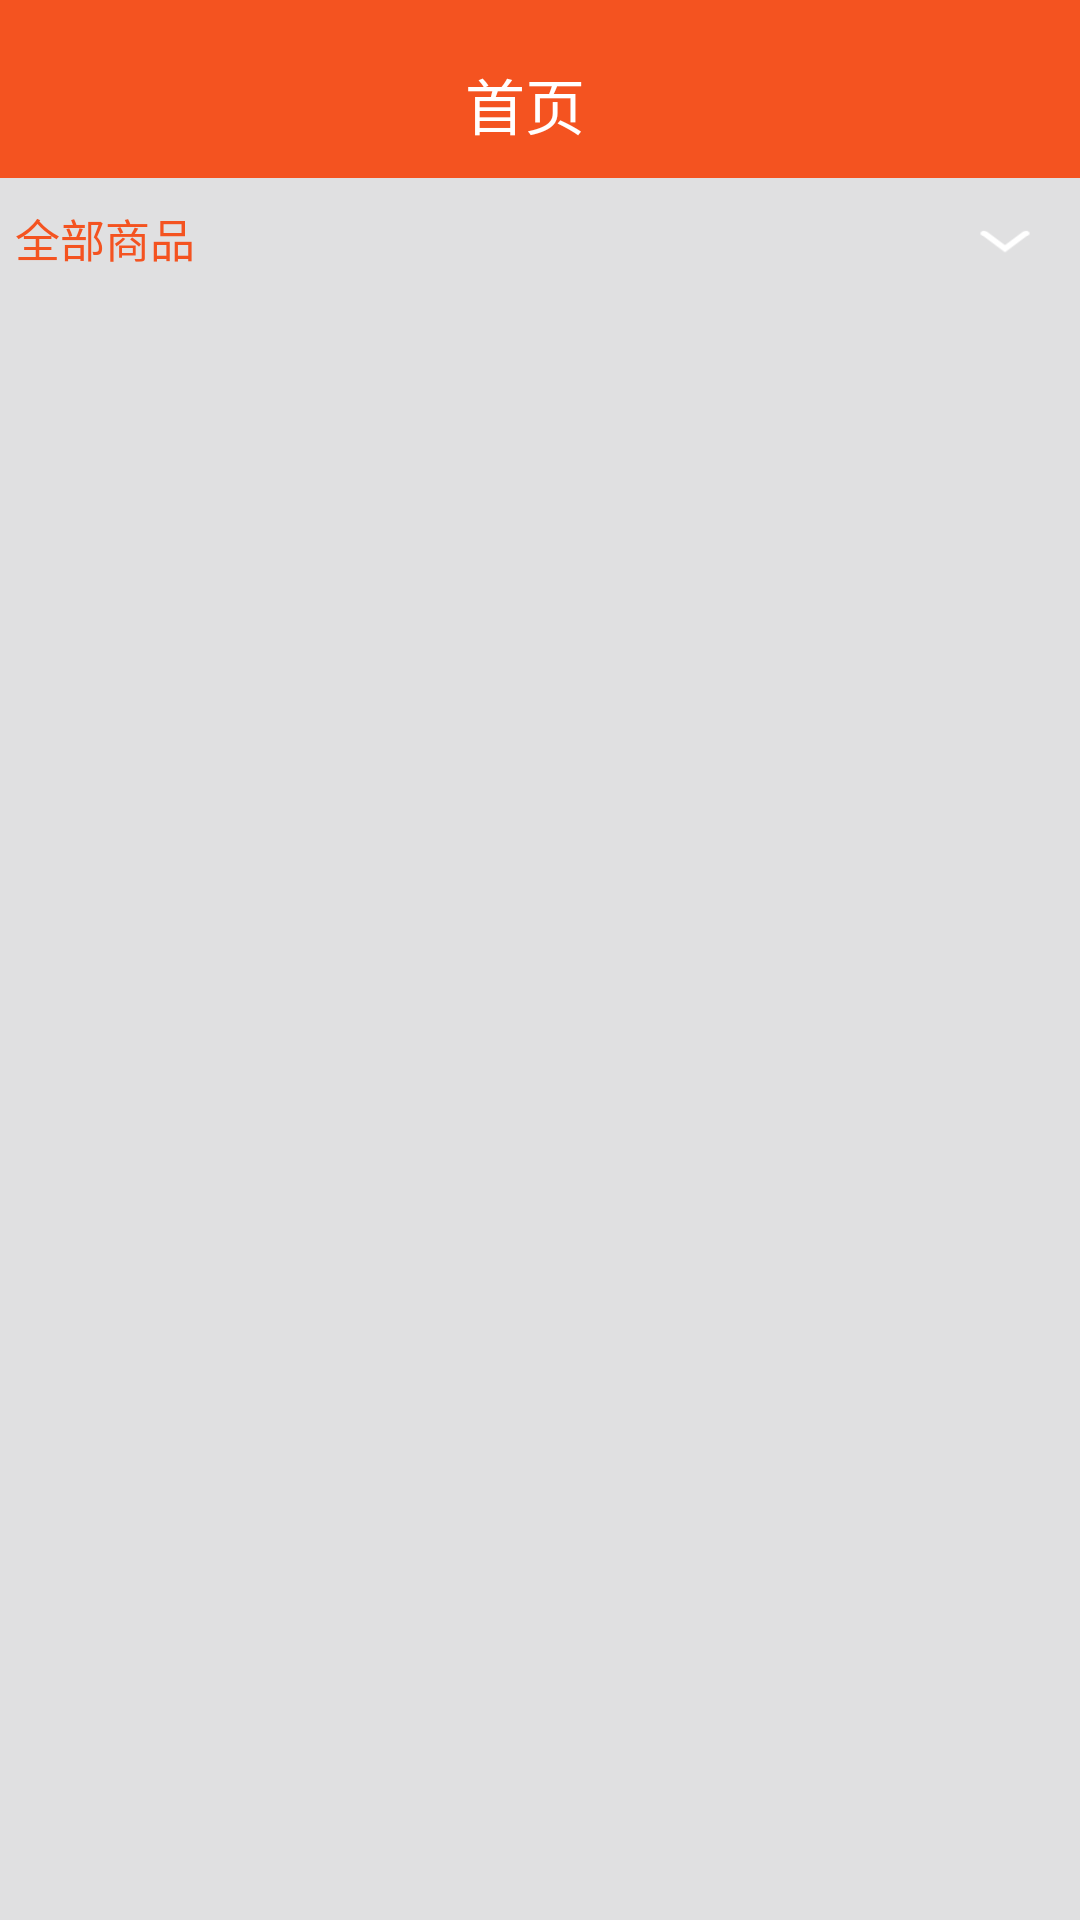

Icon click points for this 1080 x 1920 phone screenshot, format [x,y]:
arrow down: [1005,241]
